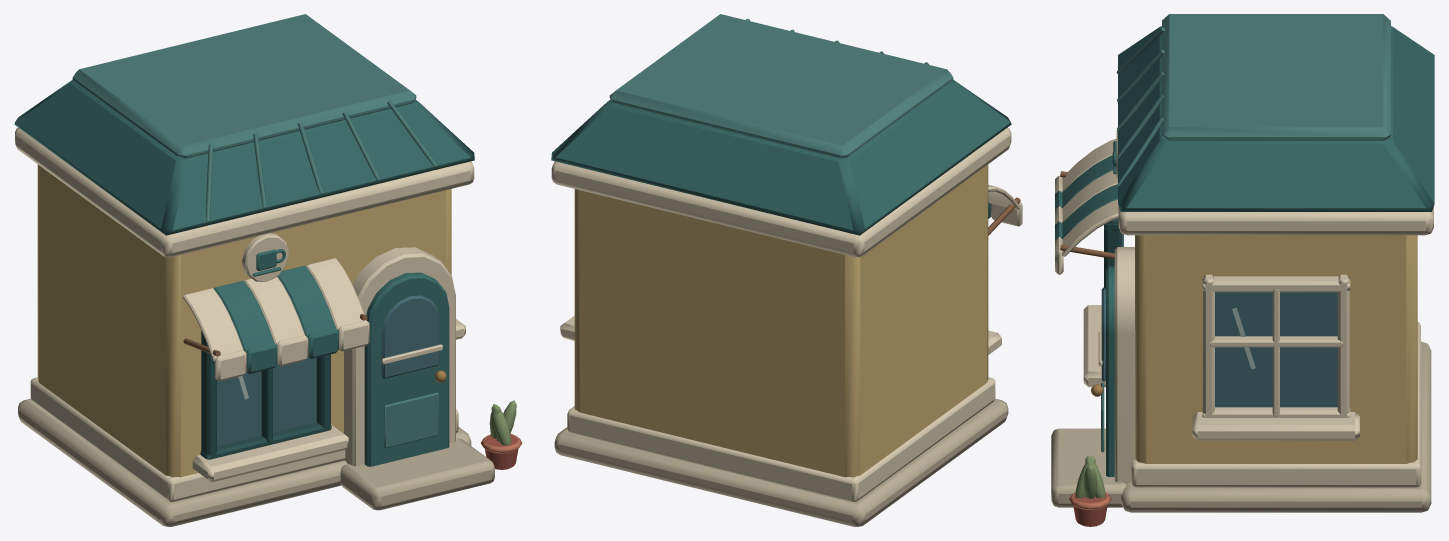
File: cafe_level_1.glb
3 views of the same model, side by side, from view 1: azimuth 30°, elevation 25°; view 2: azimuth 150°, elevation 25°; view 3: azimuth 270°, elevation 25° (orthographic). The views are drawn at different scales.
Visible parts, largest first — view 1: cafe_level_1_runtime; view 2: cafe_level_1_runtime; view 3: cafe_level_1_runtime.
Boxes of the visible parts, x1,y1,x2,y2 form: cafe_level_1_runtime: (14, 14, 522, 526); cafe_level_1_runtime: (551, 14, 1022, 526); cafe_level_1_runtime: (1051, 14, 1434, 526).
Size of the model in its own units: 2.99 by 3.02 by 2.84.
